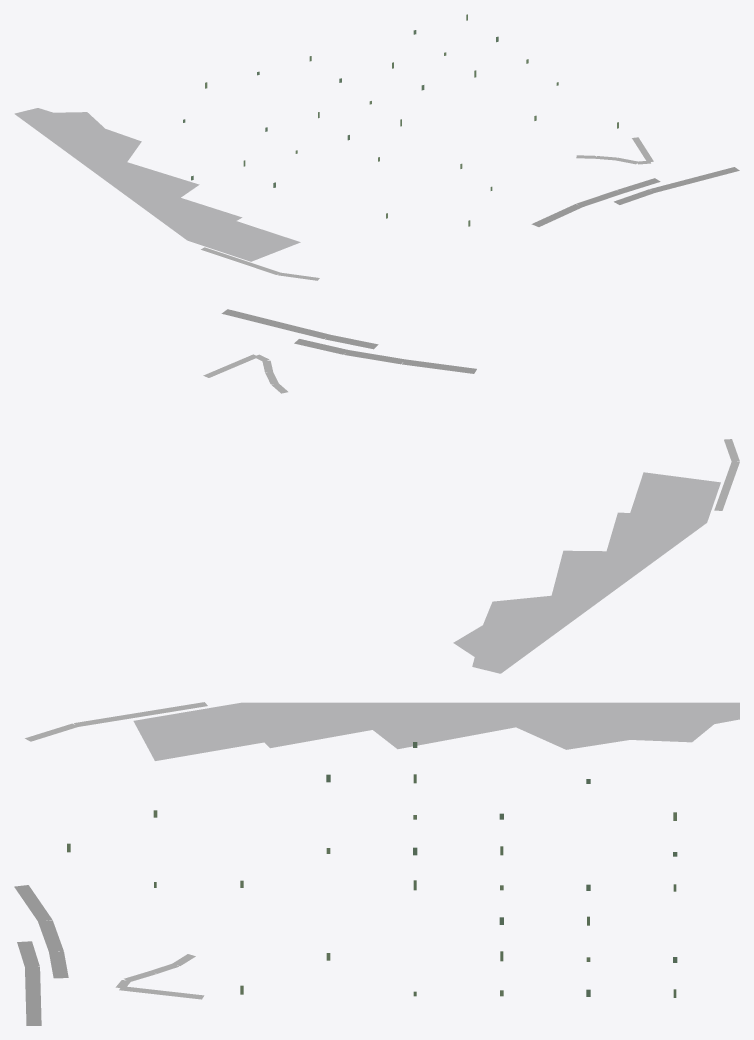
3 views of the same model, one above another, from view 1: azimuth 30°, elevation 25°; view 2: azimuth 150°, elevation 25°; view 3: azimuth 270°, elevation 25° (orthographic). The views are drawn at different scales.
Bounding box in the file's own units: 549 × 14.38 × 503.
